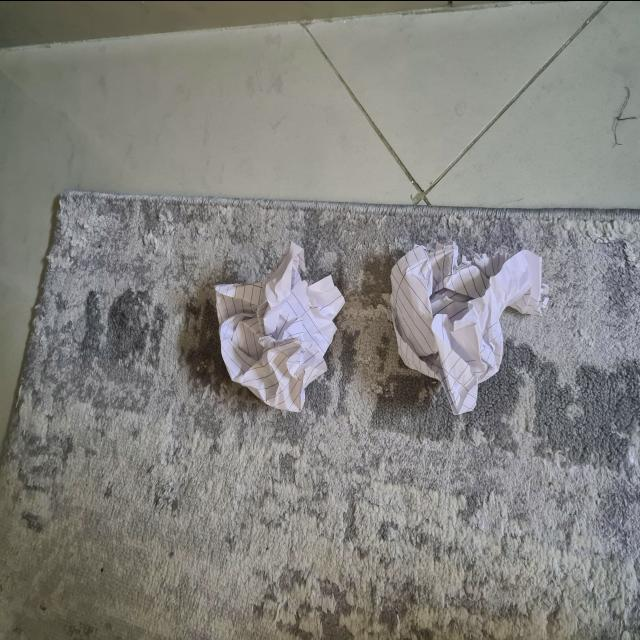Paper: (384, 231, 552, 423), (198, 239, 368, 413)
